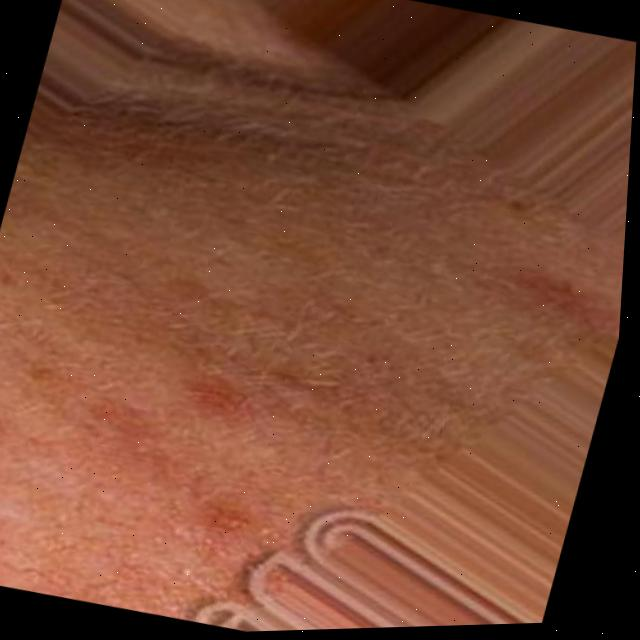Rosacea: (7, 329, 316, 585)
